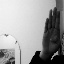b: (41, 6, 62, 58)
